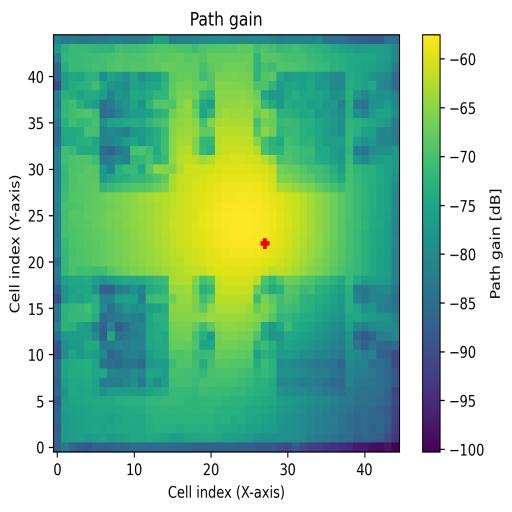Concrete: (276, 70, 346, 194)
Glass: (99, 73, 170, 194)
Metal: (276, 277, 346, 396)
Wood: (100, 276, 168, 394)
